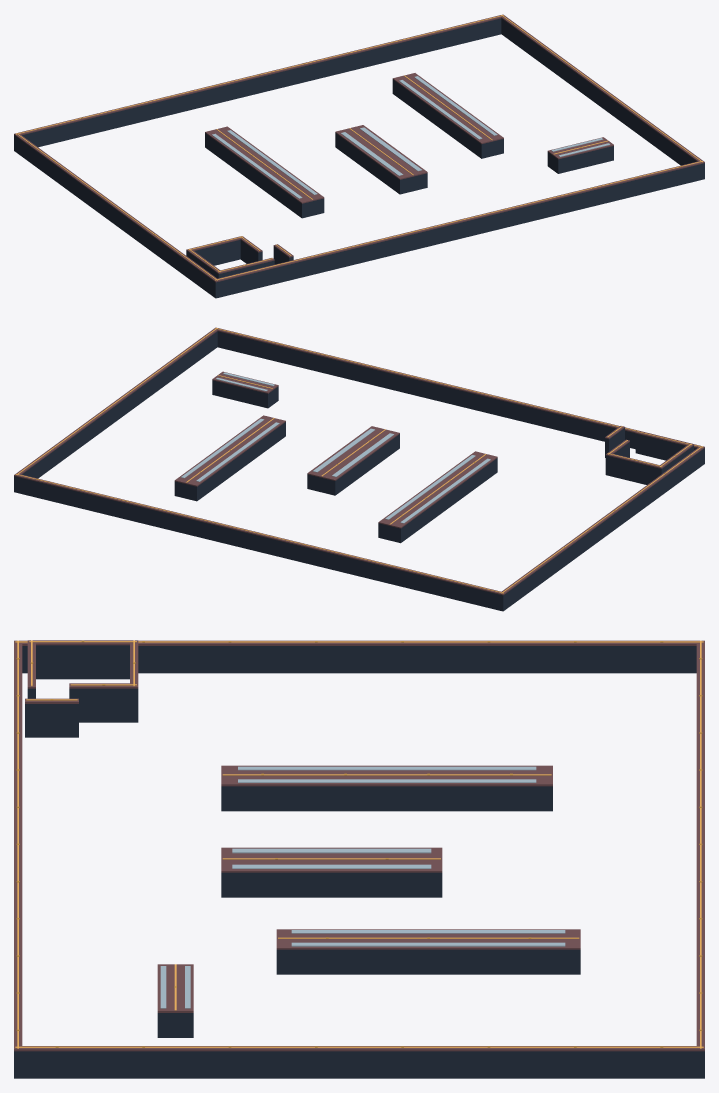
Rendered from campaign_magnetic_cascade.runtime.gltf.
3 renders of one model, top to bottom at view 1: azimuth 30°, elevation 25°; view 2: azimuth 150°, elevation 25°; view 3: azimuth 270°, elevation 25°, orthographic. The views are drawn at different scales.
Visible parts, largest first — view 1: BATCH material 0, BATCH material 1, BATCH material 3, BATCH material 2; view 2: BATCH material 0, BATCH material 1, BATCH material 3, BATCH material 2; view 3: BATCH material 0, BATCH material 1, BATCH material 2, BATCH material 3.
Part boxes in pixels (bbox=[...]): BATCH material 0: bbox=[14, 18, 704, 298]; BATCH material 1: bbox=[14, 14, 704, 282]; BATCH material 3: bbox=[16, 15, 703, 280]; BATCH material 2: bbox=[212, 76, 610, 198]; BATCH material 0: bbox=[14, 331, 704, 611]; BATCH material 1: bbox=[14, 327, 704, 595]; BATCH material 3: bbox=[15, 328, 702, 593]; BATCH material 2: bbox=[181, 372, 490, 523]; BATCH material 0: bbox=[14, 645, 704, 1078]; BATCH material 1: bbox=[14, 640, 704, 1051]; BATCH material 2: bbox=[160, 766, 565, 1008]; BATCH material 3: bbox=[15, 640, 703, 1048].
Size of the model in its own units: 35 by 1.45 by 25.
